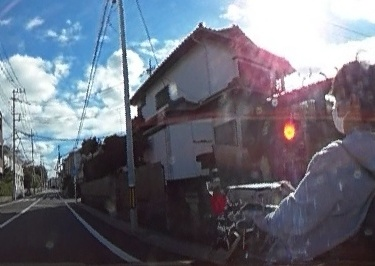person: (250, 53, 375, 266)
